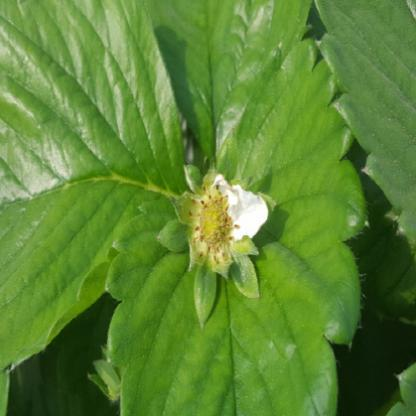Strawberry_Blossom_Blight: (185, 181, 241, 273)
